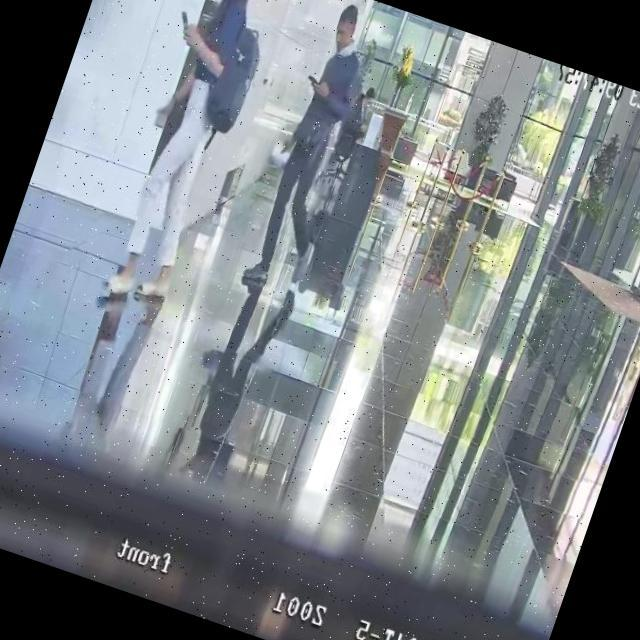person: (90, 0, 279, 312), (236, 0, 397, 306), (339, 80, 380, 152)
